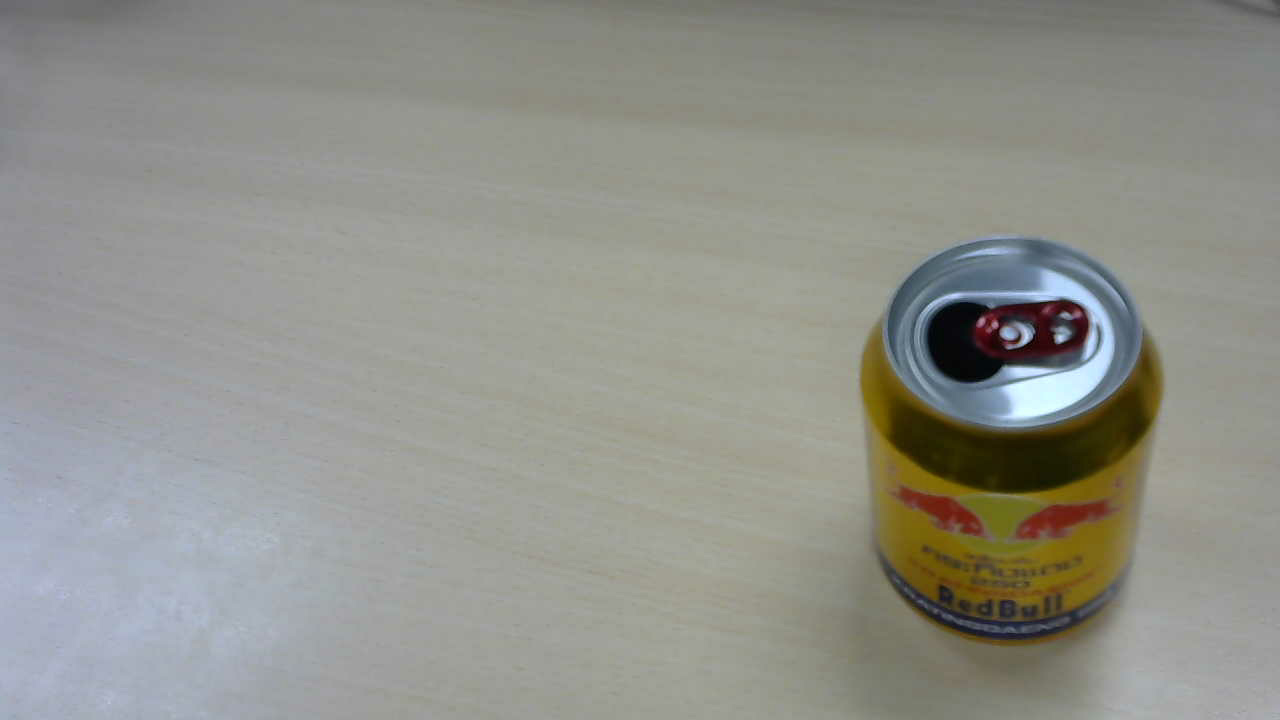Red_Bull: (859, 239, 1167, 652)
